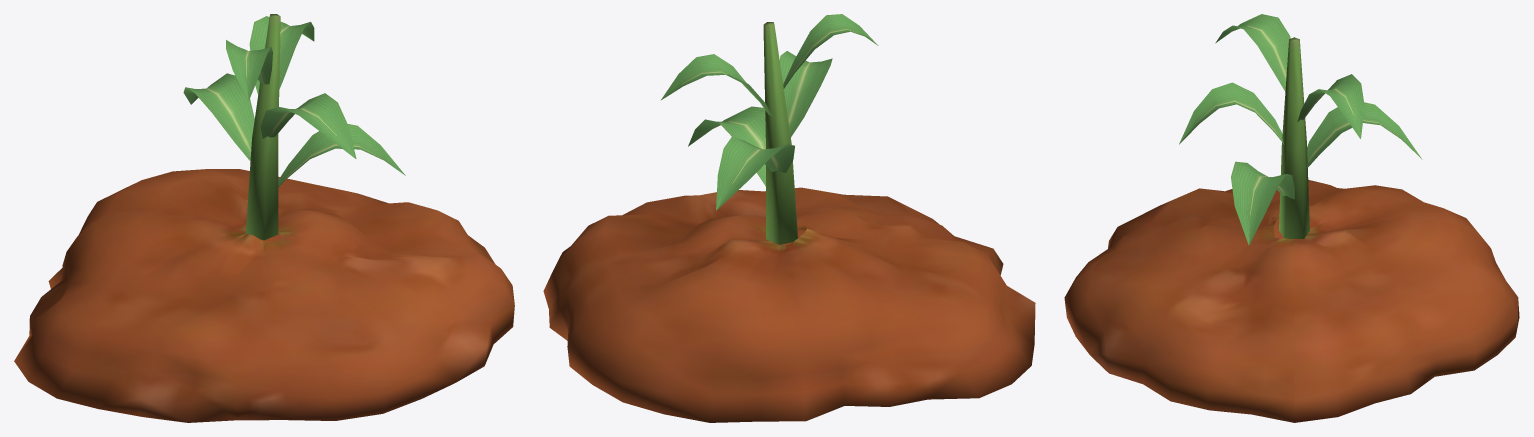
3 views of the same model, side by side, from view 1: azimuth 30°, elevation 25°; view 2: azimuth 150°, elevation 25°; view 3: azimuth 270°, elevation 25° (orthographic). The views are drawn at different scales.
Visible parts, largest first — view 1: corn-growing; view 2: corn-growing; view 3: corn-growing.
Boxes of the visible parts, <box> form: corn-growing: <box>14,14,514,422</box>; corn-growing: <box>543,14,1035,422</box>; corn-growing: <box>1064,14,1519,422</box>.
Size of the model in its own units: 0.7926 by 0.5039 by 0.7248.
1 material, 1 textured.
